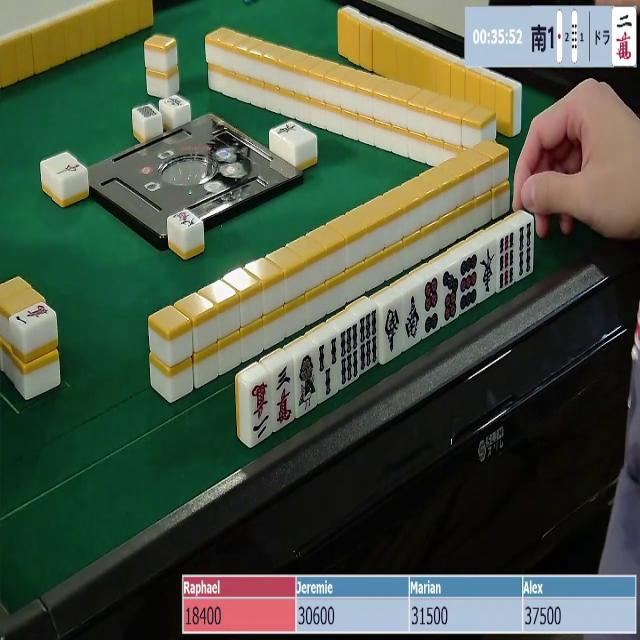1B: (297, 348, 317, 411)
2C: (243, 377, 274, 444), (613, 7, 636, 64)
3B: (315, 339, 339, 402)
3C: (272, 363, 297, 429)
4B: (516, 219, 536, 280)
6B: (356, 308, 382, 372), (337, 324, 362, 390)
6D: (418, 276, 444, 337)
7D: (438, 266, 463, 323)
9B: (495, 230, 517, 292)
9D: (454, 253, 481, 312)
EW: (478, 244, 499, 298)
SW: (381, 303, 404, 361), (402, 291, 425, 348)
